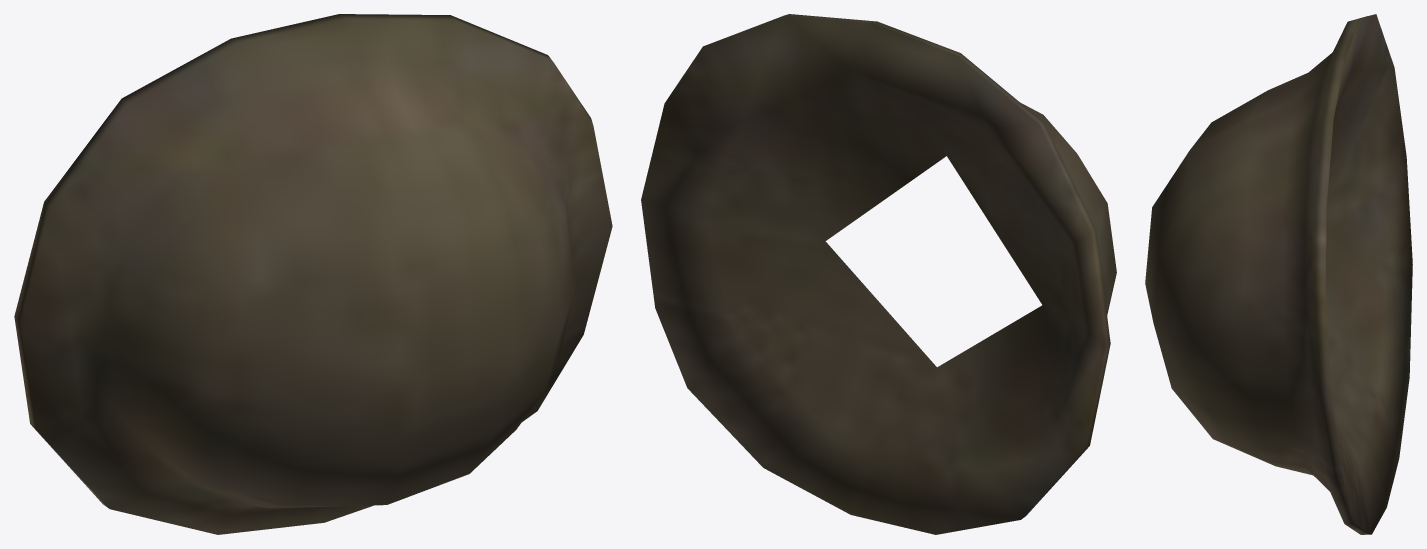
The model's file is helmet_british_normandy_mac.glb.
The picture shows the model from 3 angles, left to right: view 1: azimuth 30°, elevation 25°; view 2: azimuth 150°, elevation 25°; view 3: azimuth 270°, elevation 25°; orthographic projection. The views are drawn at different scales.
Size of the model in its own units: 13.11 by 11.84 by 6.36.
Materials: 1 (1 with a texture image).
